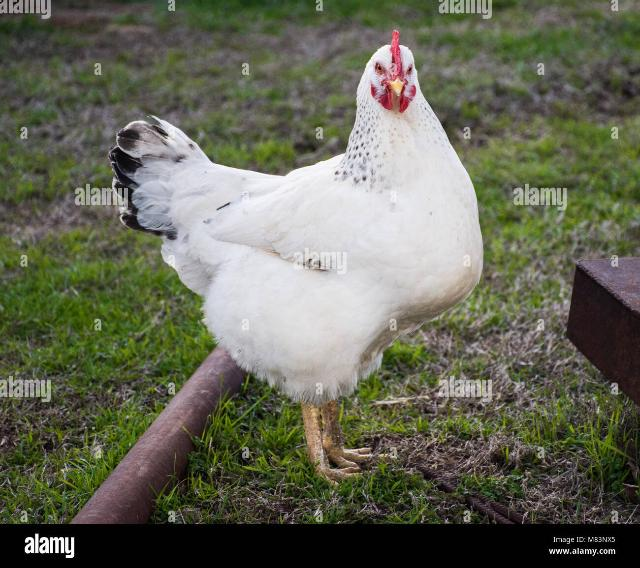Chicken: (112, 26, 482, 486)
